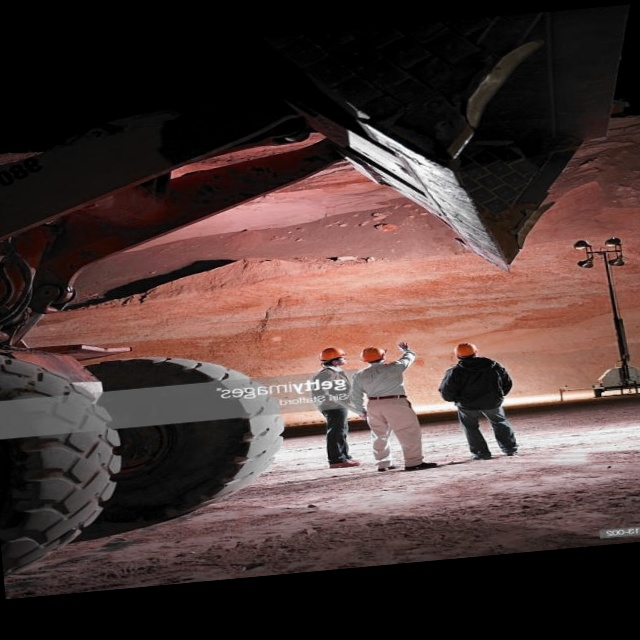Sin_Chaleco: (437, 355, 509, 414), (353, 360, 412, 402)
